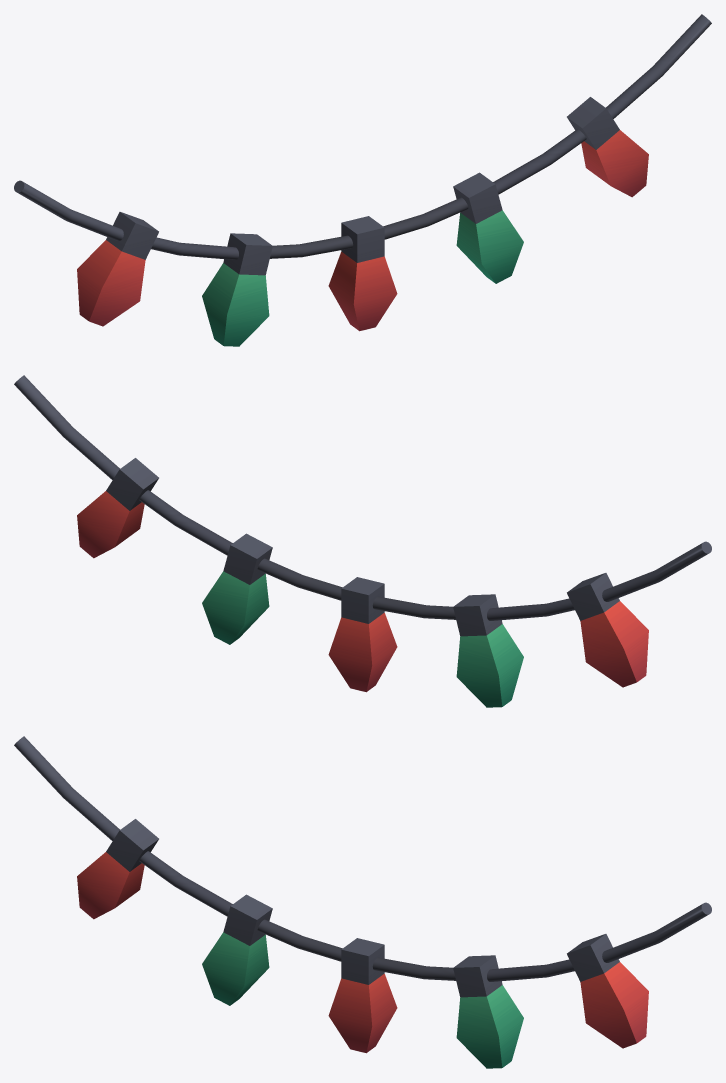
The model's file is lights-colored.obj.
3 views of the same model, one above another, from view 1: azimuth 30°, elevation 25°; view 2: azimuth 150°, elevation 25°; view 3: azimuth 330°, elevation 25° (orthographic).
Visible parts, largest first — view 1: lights-colored; view 2: lights-colored; view 3: lights-colored.
Boxes of the visible parts, x1,y1,x2,y2 form: lights-colored: (14,14,711,346); lights-colored: (14,375,711,707); lights-colored: (14,736,711,1068).
Bounding box in the file's own units: 1.01 × 0.3162 × 0.0636.
1 material, 1 textured.
